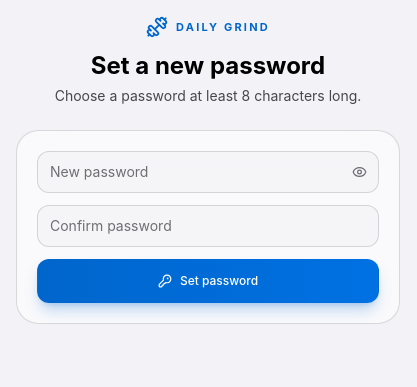
PasswordResetScreen › shows error when password is too short
The width and height of the screenshot is (417, 387).
Type "short" into the password field with placeholder "New password". click: (208, 172)
box: [37, 151, 379, 193]
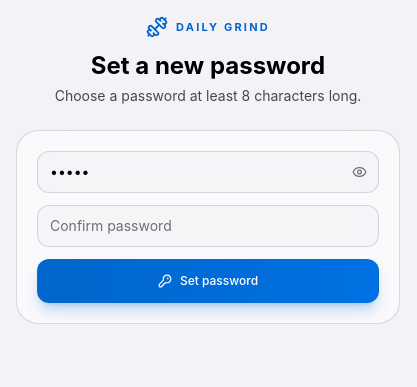
Type "short" into the password field with placeholder "Confirm password". click: (208, 226)
box: [37, 205, 379, 247]
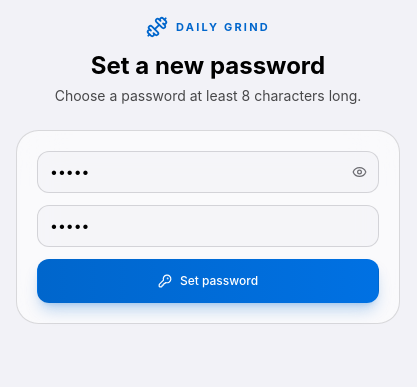
Click the button "Set password". click: click(208, 281)
box: [37, 259, 379, 303]
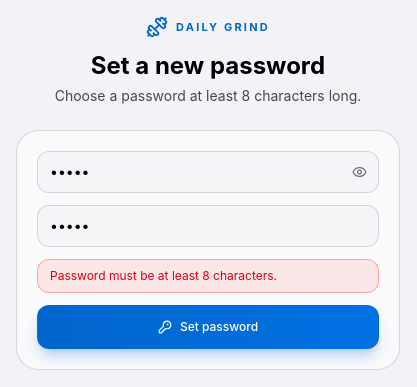
Check: the text "Password must be at least 8 characters." is shown, box [37, 259, 379, 293]
